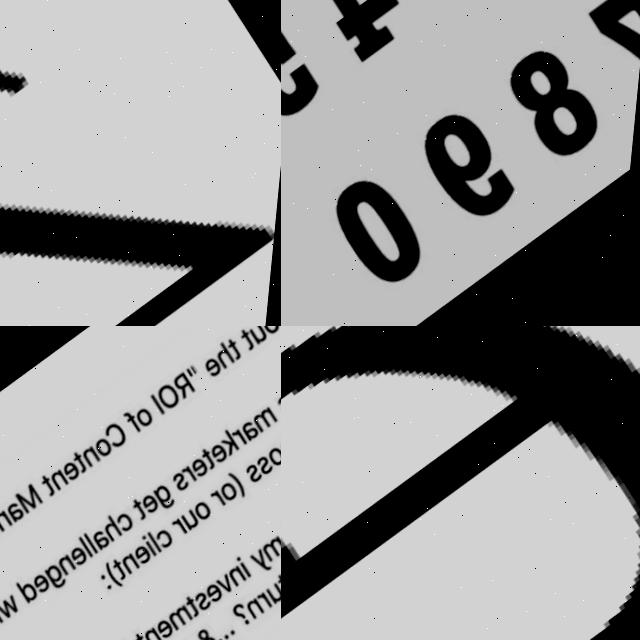0: (304, 154, 464, 326)
4: (283, 0, 443, 86)
5: (281, 0, 351, 149)
7: (566, 0, 640, 139)
8: (491, 29, 639, 193)
9: (399, 90, 555, 260)
E: (281, 326, 640, 631)
Z: (0, 0, 281, 326)
